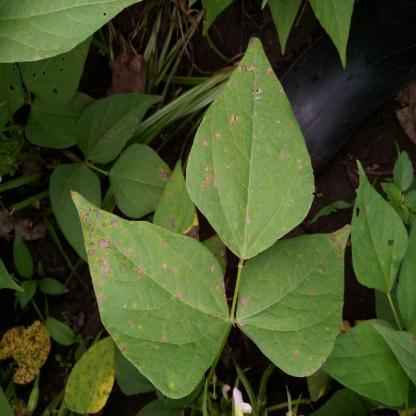Beans_Angular_LeafSpot: (72, 188, 227, 395), (181, 52, 312, 258), (233, 210, 350, 380)
